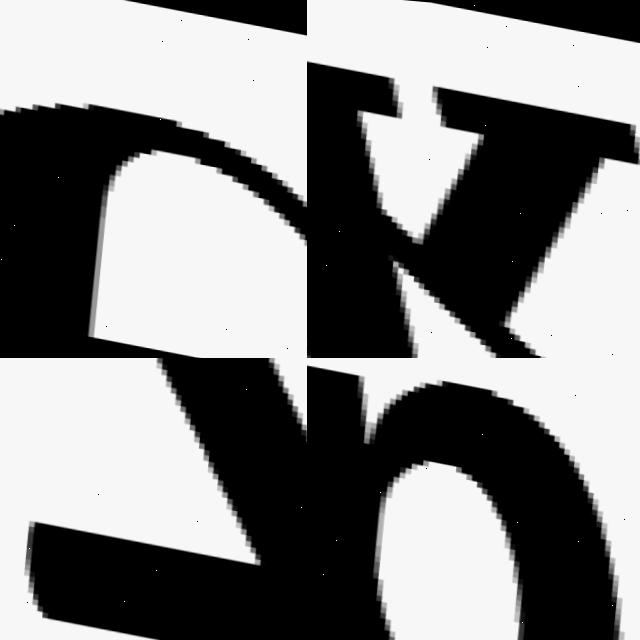7: (0, 358, 307, 640)
B: (307, 358, 626, 640)
E: (0, 96, 307, 358)
K: (307, 30, 640, 358)
